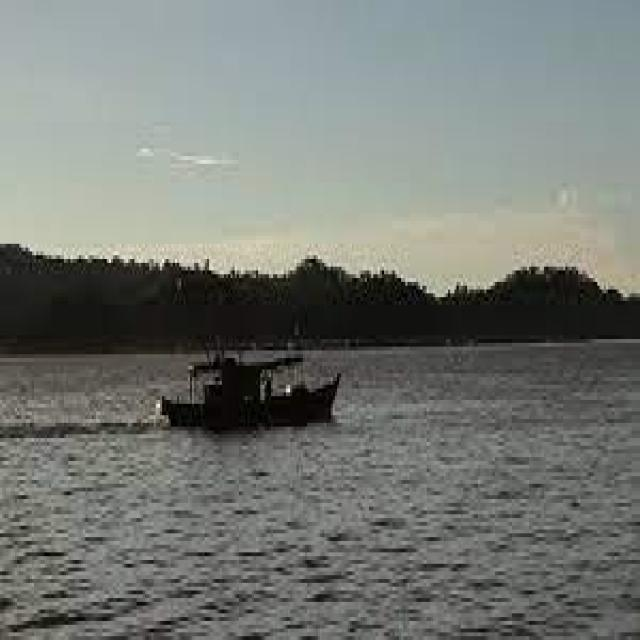fishing boat: (154, 336, 339, 423)
